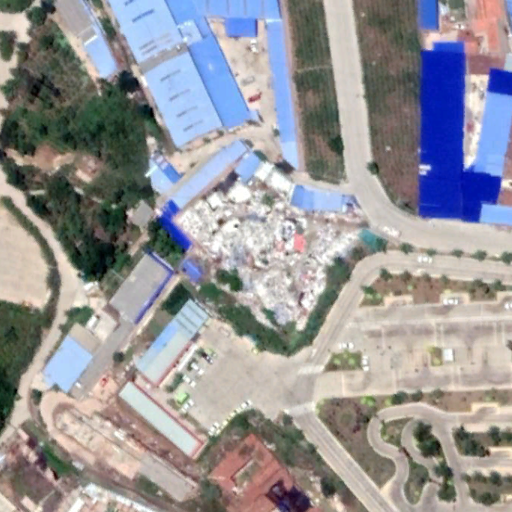msw: (171, 169, 369, 333)
